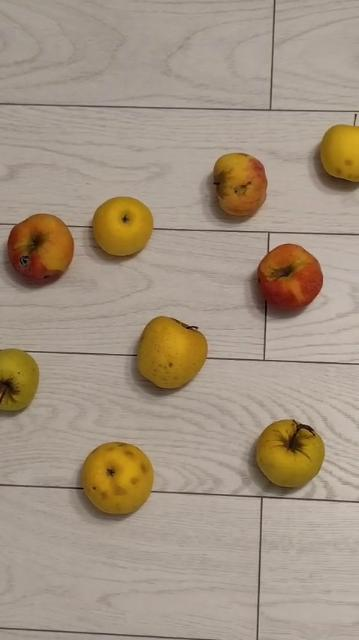apple_green: (79, 441, 153, 514), (137, 315, 207, 387), (255, 419, 324, 487), (91, 195, 154, 256), (0, 348, 39, 411), (319, 124, 359, 181)
apple_red: (6, 213, 73, 282), (257, 243, 323, 311), (213, 152, 268, 216)
